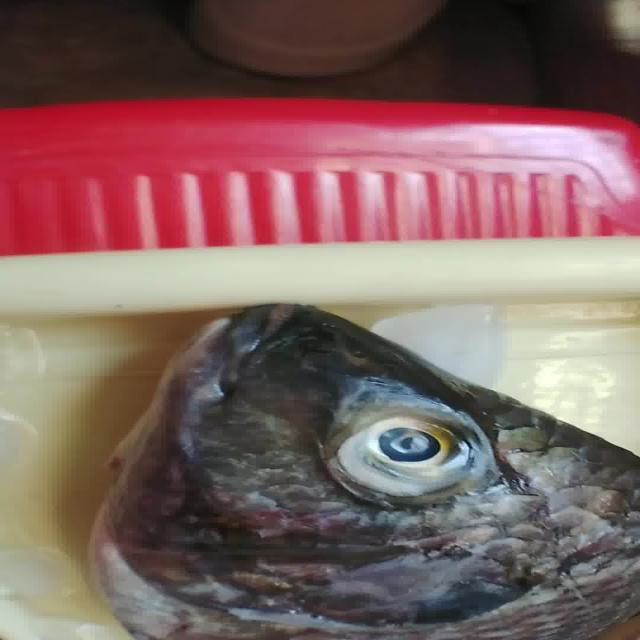Fresh: (322, 402, 502, 508)
